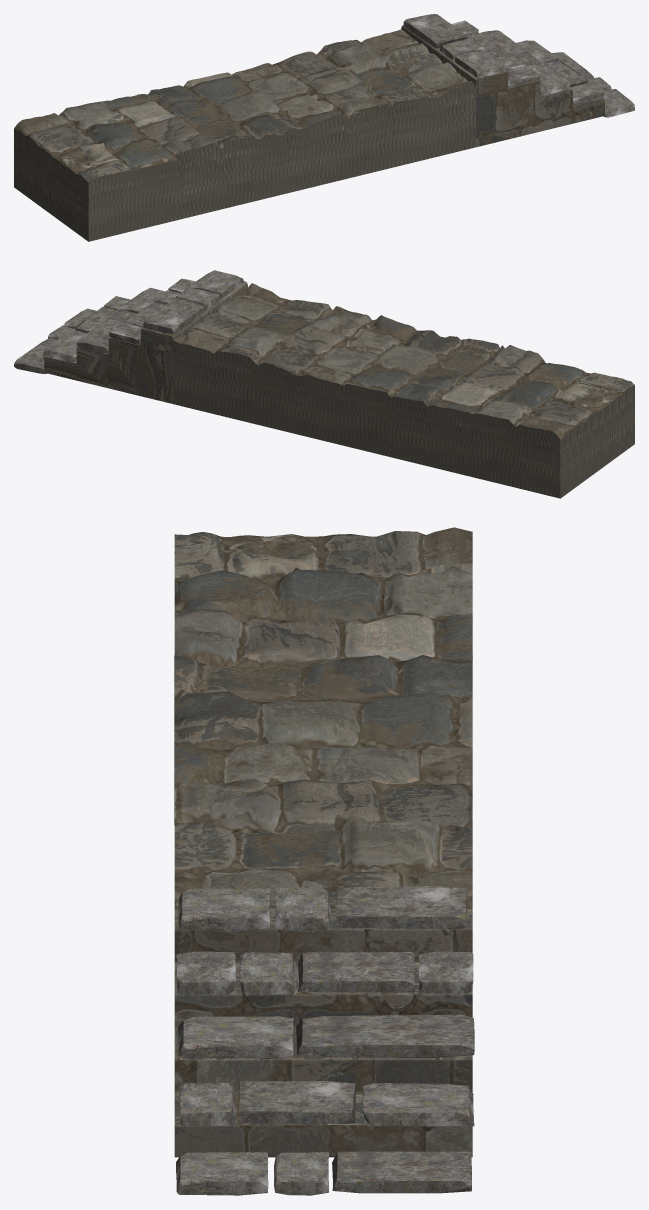
The model's file is SM_Walkway_1x4_02.fbx.
The picture shows the model from 3 angles, top to bottom: view 1: azimuth 30°, elevation 25°; view 2: azimuth 150°, elevation 25°; view 3: azimuth 270°, elevation 25°; orthographic projection. The views are drawn at different scales.
Visible parts, largest first — view 1: SM_Walkway_1x4_02_LOD0; view 2: SM_Walkway_1x4_02_LOD0; view 3: SM_Walkway_1x4_02_LOD0.
Part boxes in pixels (bbox=[...]): SM_Walkway_1x4_02_LOD0: bbox=[14, 14, 634, 241]; SM_Walkway_1x4_02_LOD0: bbox=[14, 270, 634, 498]; SM_Walkway_1x4_02_LOD0: bbox=[174, 527, 474, 1195].
Bounding box in the file's own units: 425 × 101 × 56.98.
